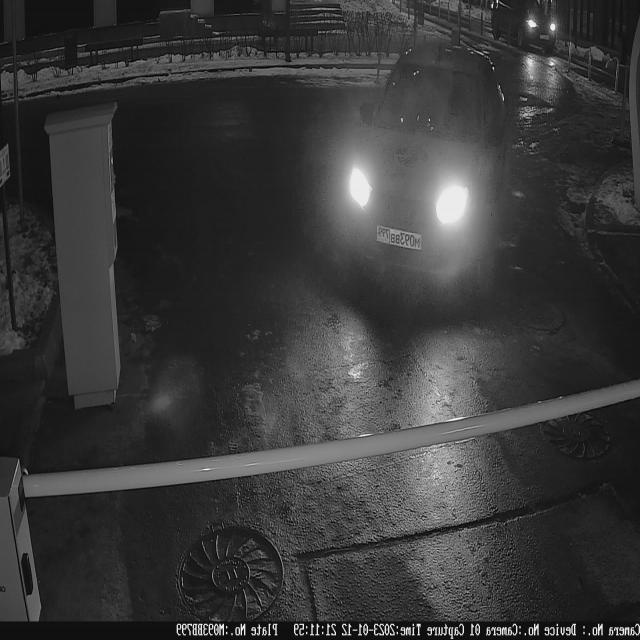car-plate-numbers: (375, 225, 423, 259)
